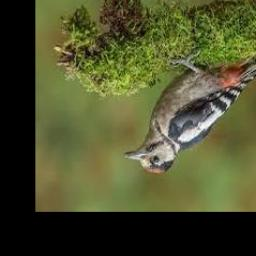Woodpecker: (124, 53, 256, 174)
